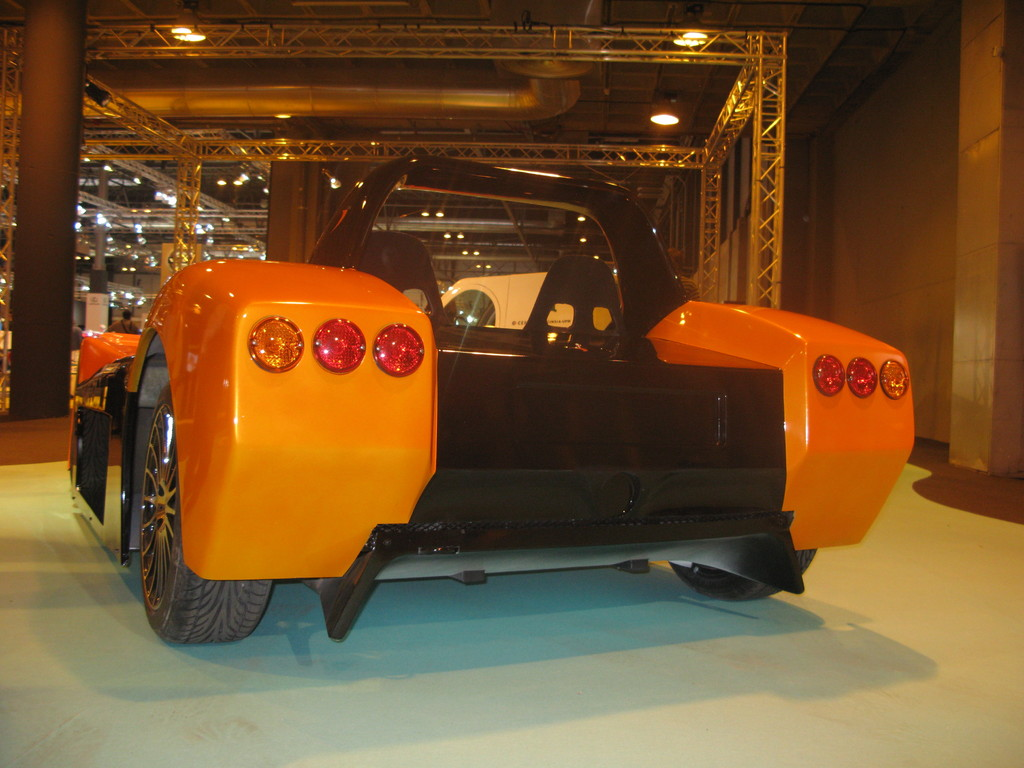Car: (133, 167, 862, 633)
